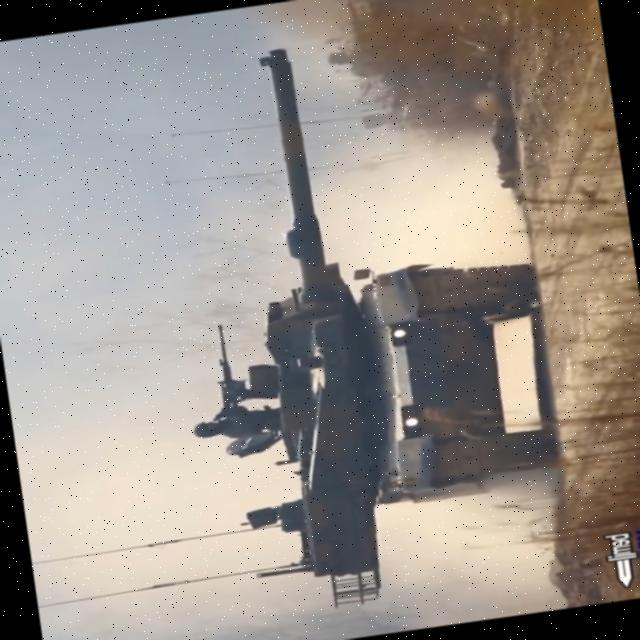korea tank: (138, 16, 580, 626)
